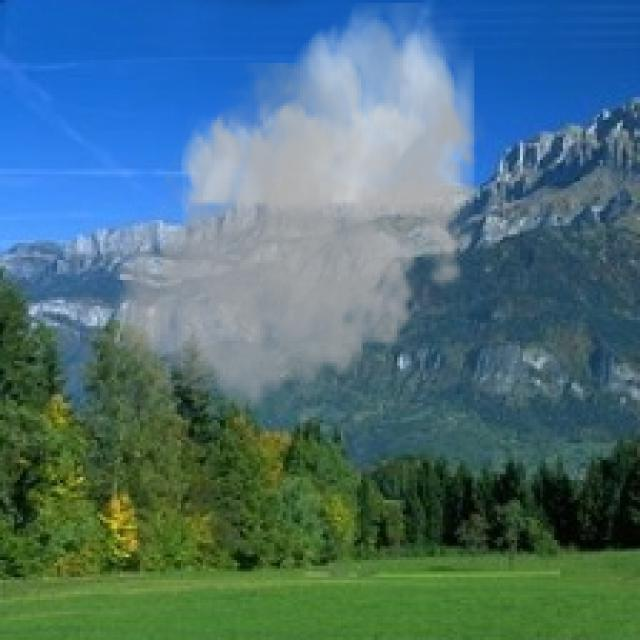Smoke: (109, 2, 488, 428)
